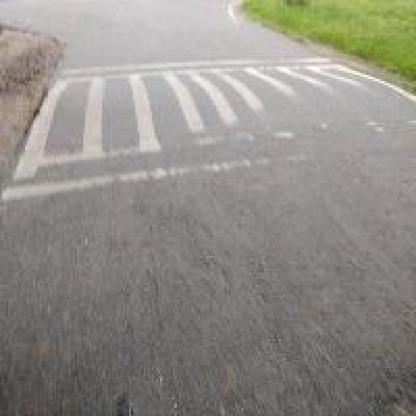Speed Bump: (0, 50, 414, 204)
